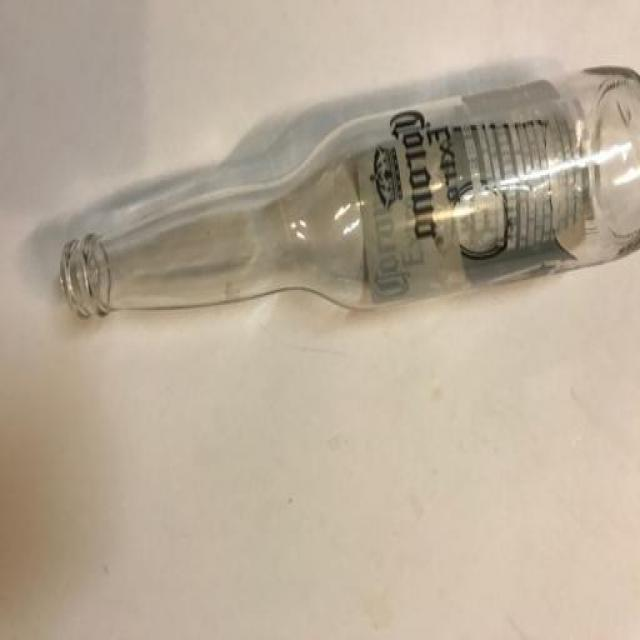glass: (59, 52, 640, 324)
